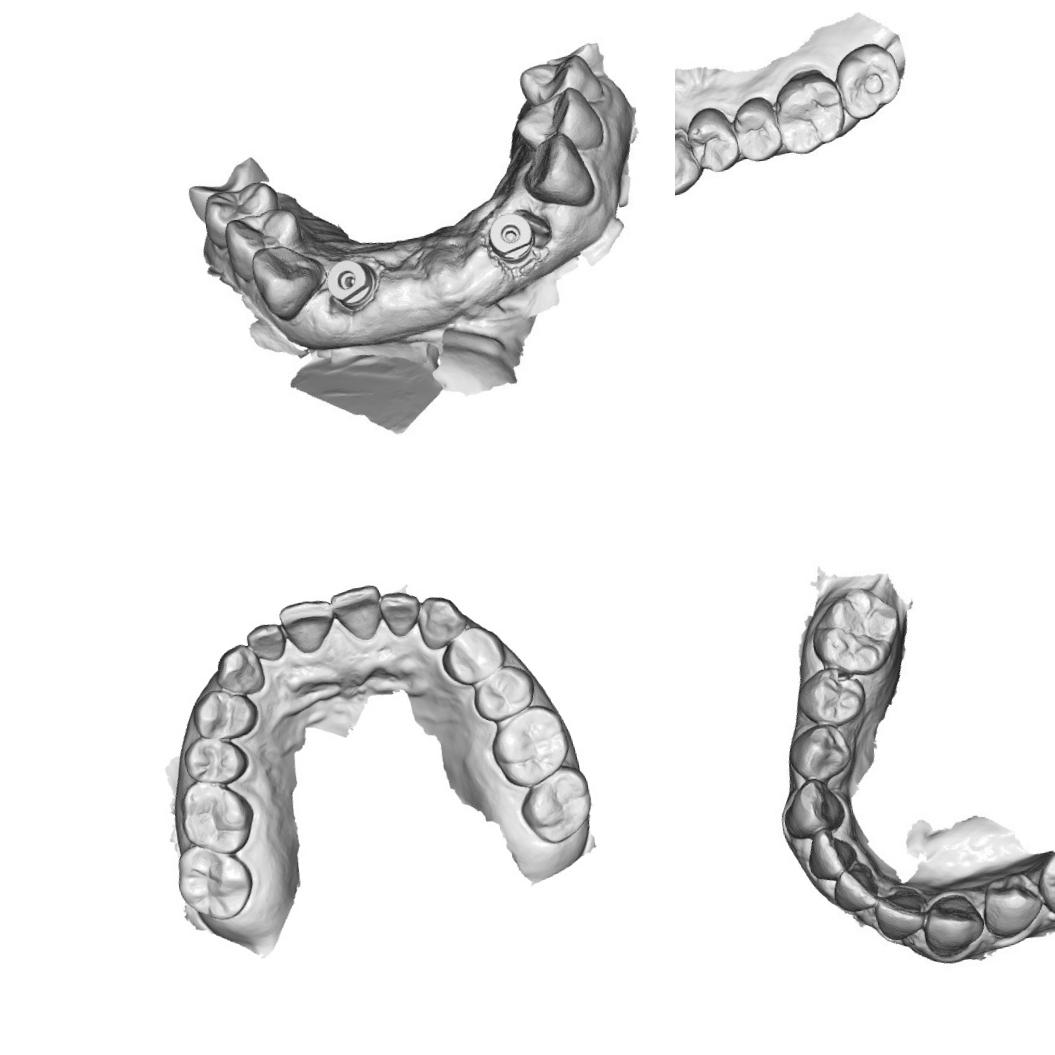canine: (248, 237, 328, 324), (516, 128, 594, 208), (980, 870, 1048, 944), (781, 780, 846, 838), (210, 640, 269, 700), (414, 592, 472, 652), (675, 134, 702, 200)
implant: (474, 205, 555, 277), (314, 249, 390, 324)
incisor: (922, 890, 992, 966), (872, 878, 934, 944), (276, 596, 339, 658), (329, 582, 387, 644), (806, 824, 862, 886), (832, 858, 879, 918), (378, 588, 424, 639), (244, 618, 290, 664)
molar: (812, 580, 906, 680), (172, 837, 260, 926), (486, 703, 574, 792), (176, 773, 261, 860), (514, 762, 598, 848), (772, 66, 850, 158), (829, 38, 903, 125)
premolar: (219, 205, 306, 280), (201, 174, 286, 248), (513, 87, 605, 155), (520, 51, 603, 117), (436, 622, 510, 690), (682, 103, 744, 178), (727, 90, 787, 166), (467, 662, 540, 724), (188, 685, 262, 744), (180, 730, 252, 790), (797, 666, 862, 730), (788, 722, 854, 785), (1038, 844, 1055, 915)
